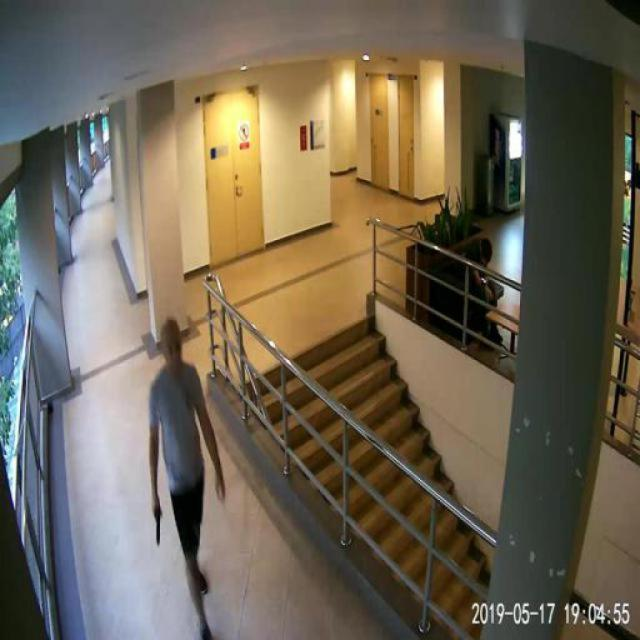pistol: (150, 500, 162, 541)
